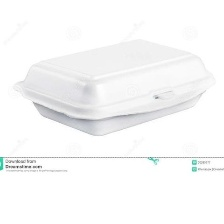foam_box: (8, 31, 218, 139)
